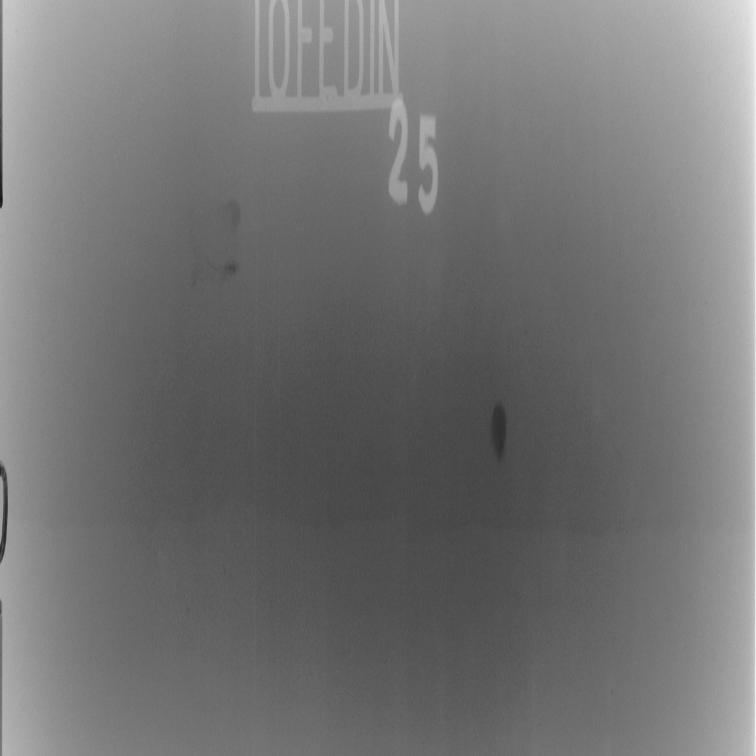FP: (185, 194, 251, 291)
PO: (482, 378, 518, 483)
